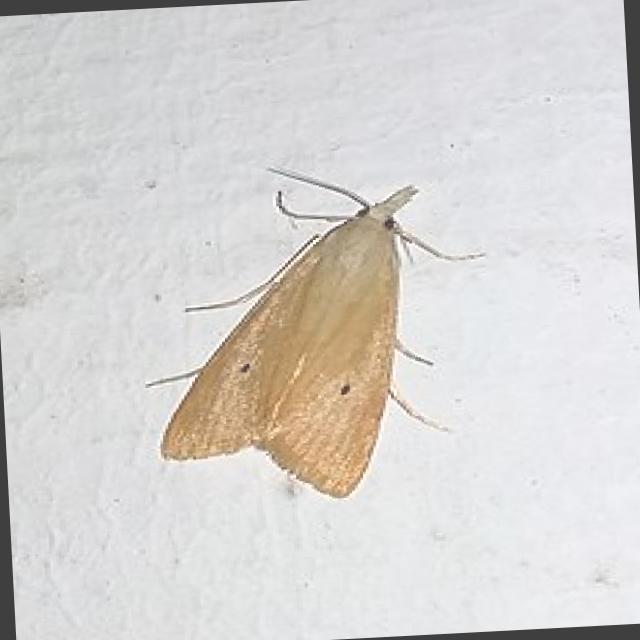stem borer: (160, 170, 446, 496)
